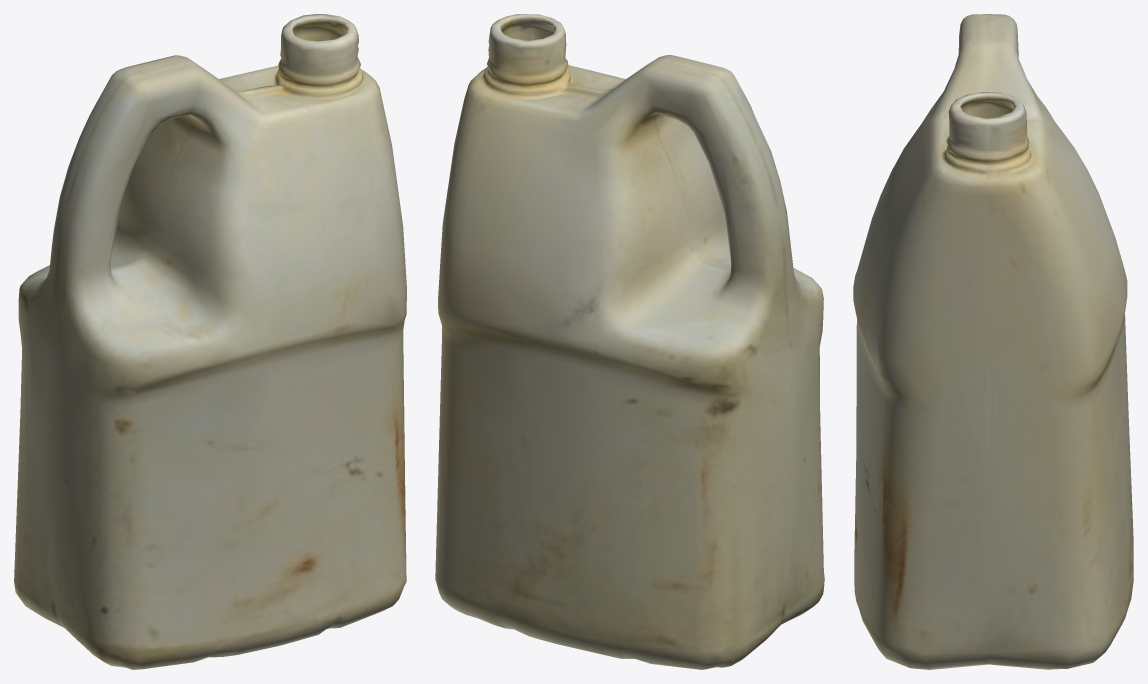
The model's file is plastic_bottle_gallon.glb.
3 views of the same model, side by side, from view 1: azimuth 30°, elevation 25°; view 2: azimuth 150°, elevation 25°; view 3: azimuth 270°, elevation 25° (orthographic).
Parts seen in each view (by area): view 1: plastic_bottle_gallon; view 2: plastic_bottle_gallon; view 3: plastic_bottle_gallon.
Boxes of the visible parts, <box> form: plastic_bottle_gallon: <box>14,14,406,669</box>; plastic_bottle_gallon: <box>435,14,824,669</box>; plastic_bottle_gallon: <box>853,14,1133,669</box>.
Bounding box in the file's own units: 0.1662 × 0.2744 × 0.1261.
Materials: 1 (1 with a texture image).
